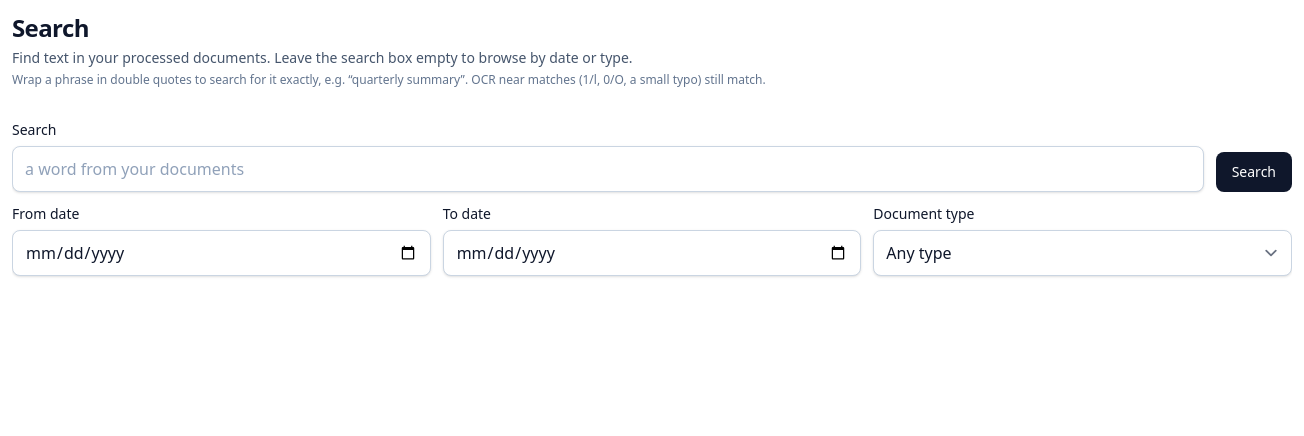
Scenario: does not flag untouched snippets
Type "quarterly" into the field labelled "Search" at {"x": 608, "y": 169}, box [12,146,1204,192]
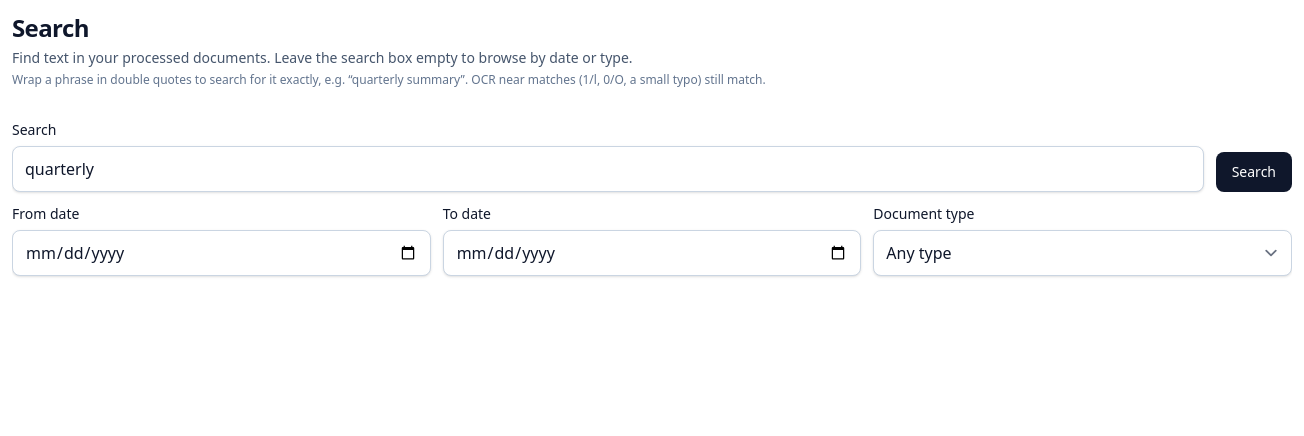
Click the button "Search" at {"x": 1254, "y": 172}, box [1216,152,1292,192]
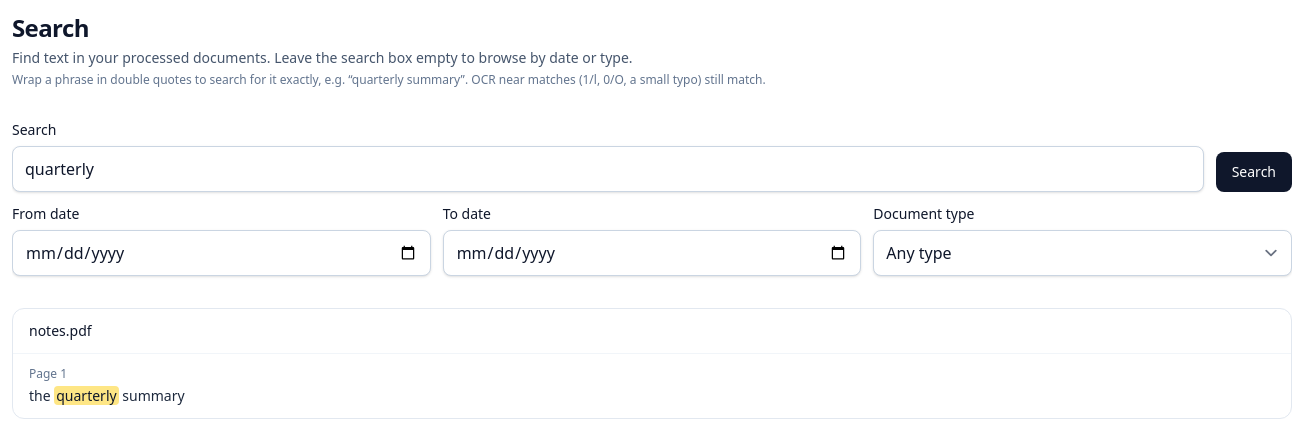
Check: the text "quarterly" is shown, box [54,386,119,405]
